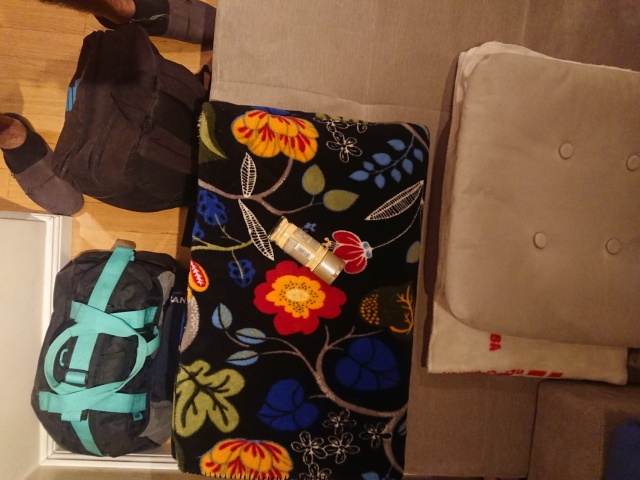Kotanyi Garlic Granules 70g: (265, 213, 348, 287)
